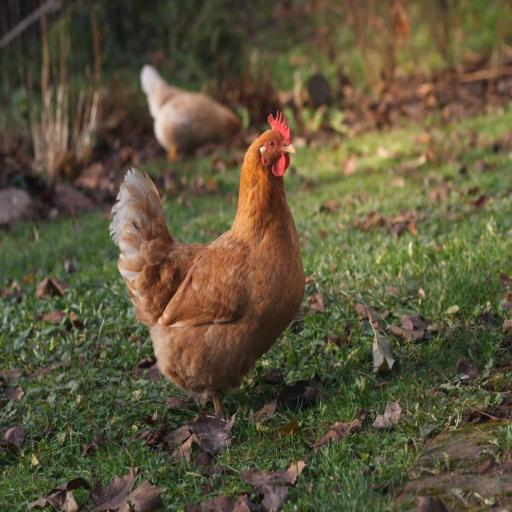healthy: (254, 107, 304, 185)
